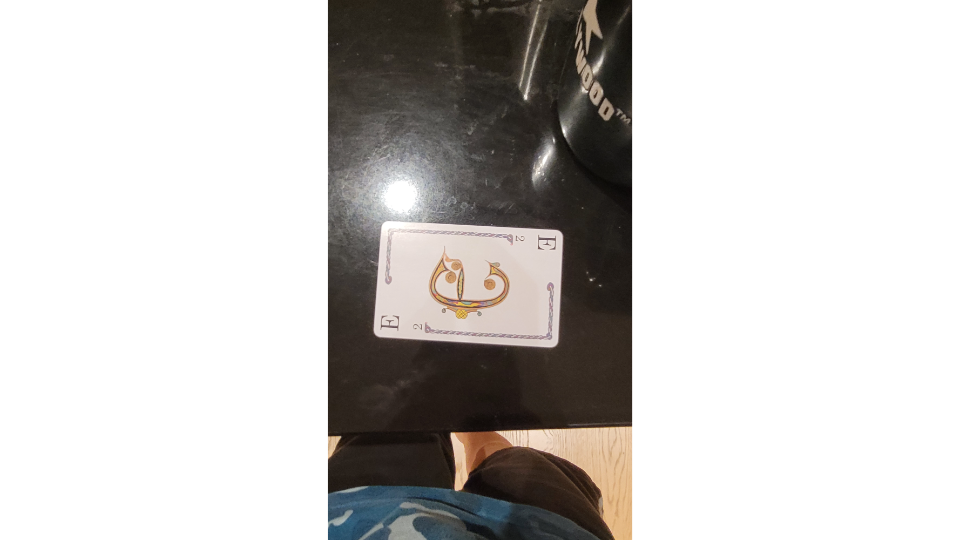E: (370, 217, 564, 352)
